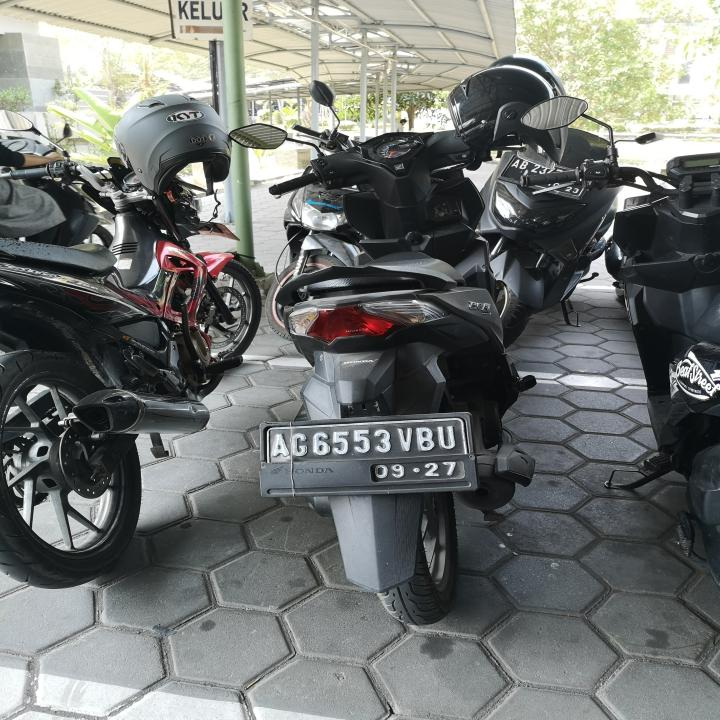plate: (254, 408, 478, 502), (500, 155, 589, 197)
